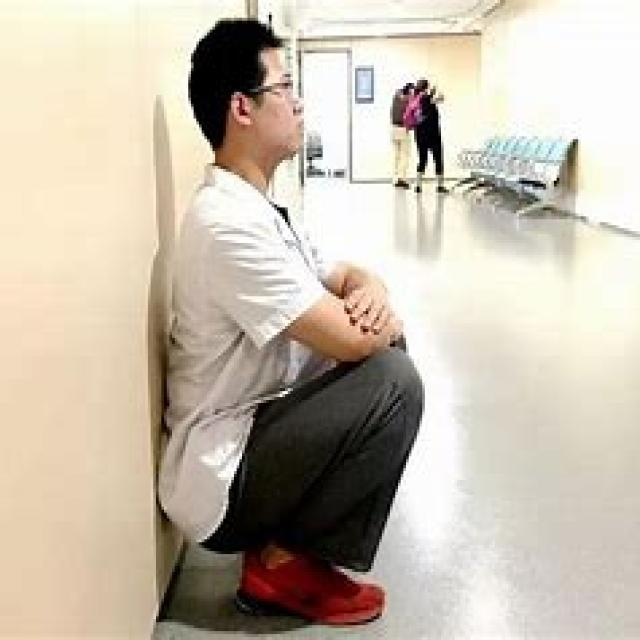sit: (160, 26, 424, 640)
stand: (403, 59, 467, 198)
